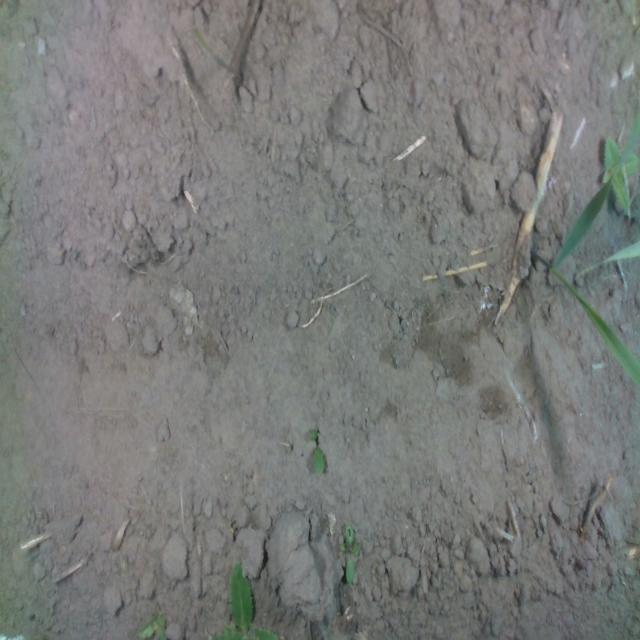weed: (308, 426, 326, 476)
